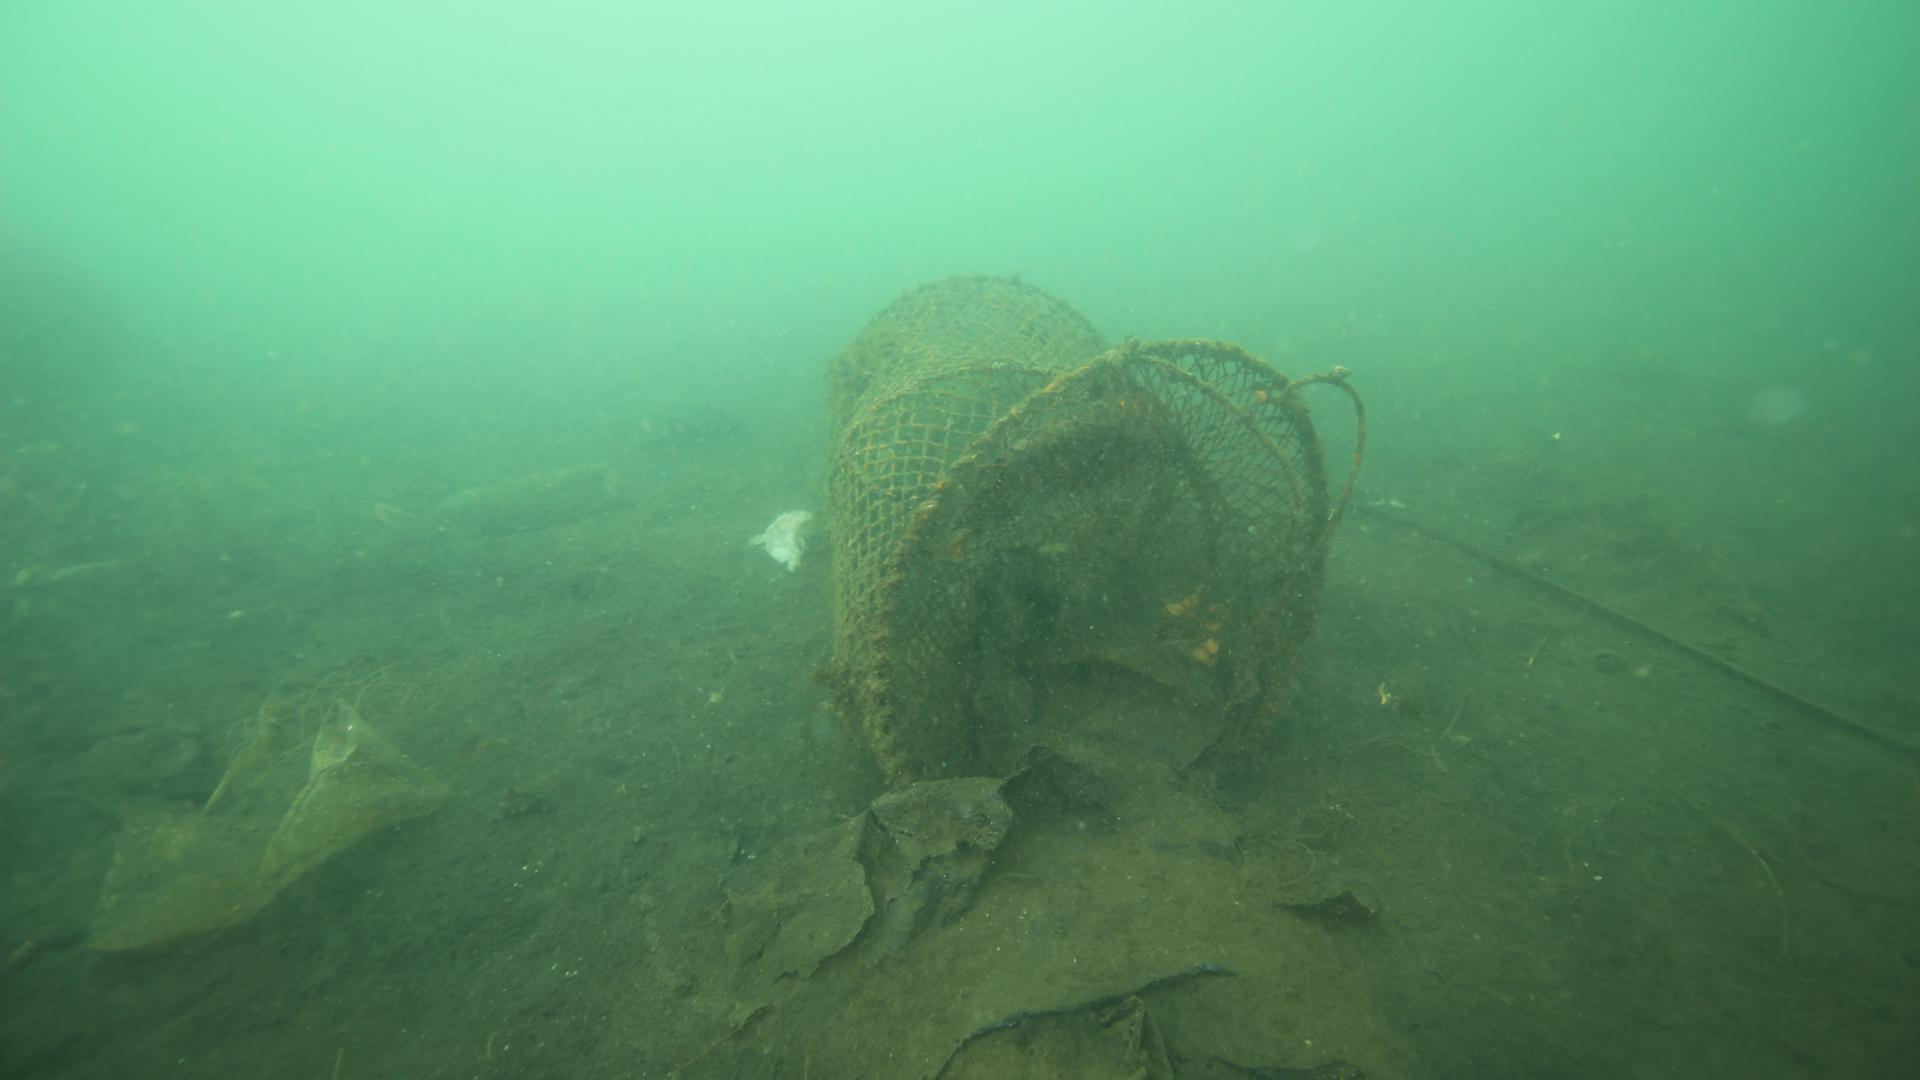spring fish trap: (822, 265, 1332, 833)
